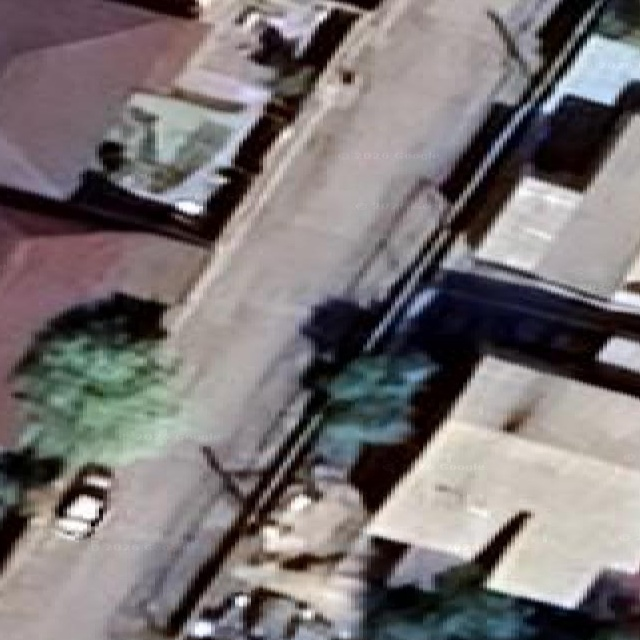car: (55, 464, 111, 539), (187, 592, 255, 639)
